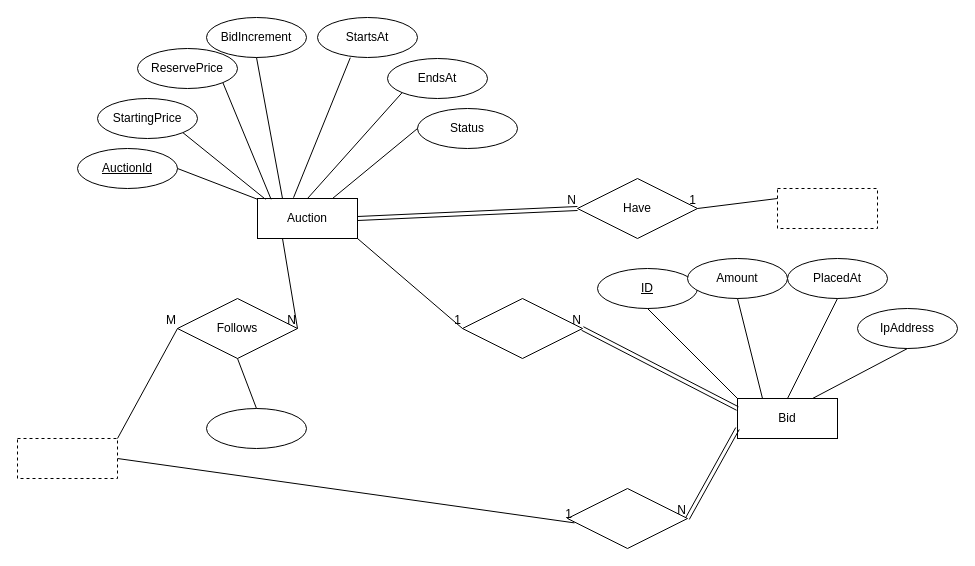
This 975x566 diagram has some shape labels left out. Here are the shapes that lost their labels. From the top down, the centre of each, then its label:
At (827,208): "Item".
At (522,328): "Receives".
At (256,428): "FollowedAt".
At (67,458): "Member".
At (627,518): "Places".
